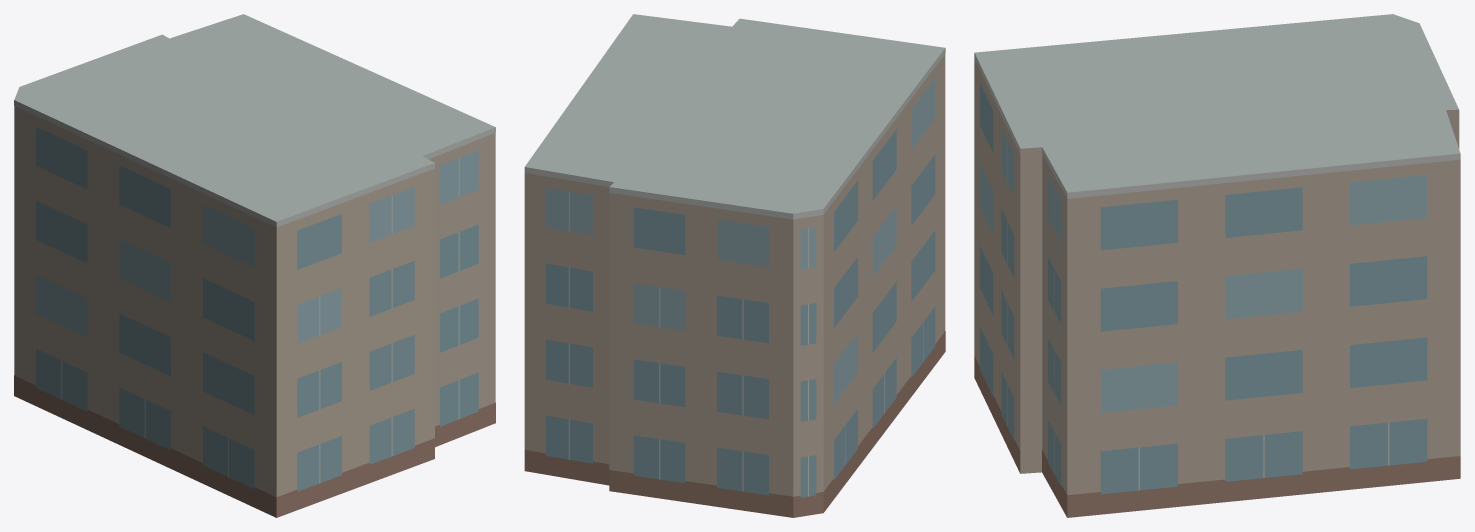
Rendered from survey-upis-32697651.glb.
3 views of the same model, side by side, from view 1: azimuth 30°, elevation 25°; view 2: azimuth 150°, elevation 25°; view 3: azimuth 270°, elevation 25° (orthographic). The views are drawn at different scales.
Visible parts, largest first — view 1: survey-upis-32697651.tmp; view 2: survey-upis-32697651.tmp; view 3: survey-upis-32697651.tmp.
Boxes of the visible parts, bbox=[...] form: survey-upis-32697651.tmp: bbox=[14, 14, 495, 517]; survey-upis-32697651.tmp: bbox=[524, 14, 945, 517]; survey-upis-32697651.tmp: bbox=[974, 14, 1460, 517].
Size of the model in its own units: 15.15 by 12.85 by 17.42.
